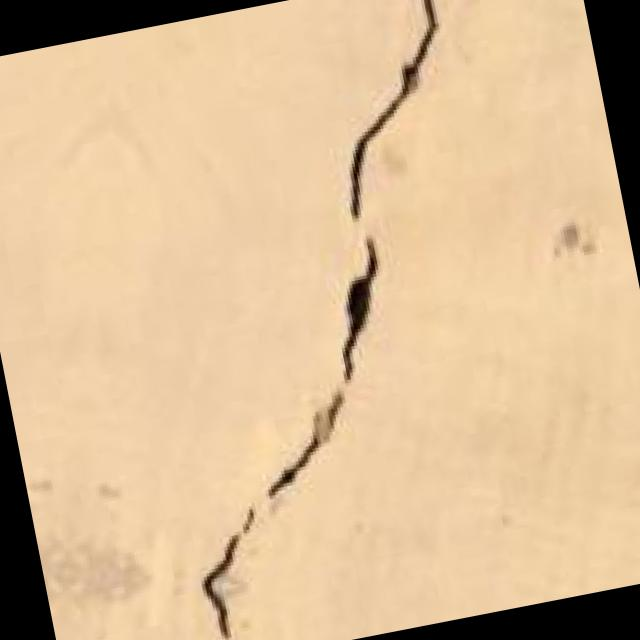crack: (48, 0, 581, 640)
